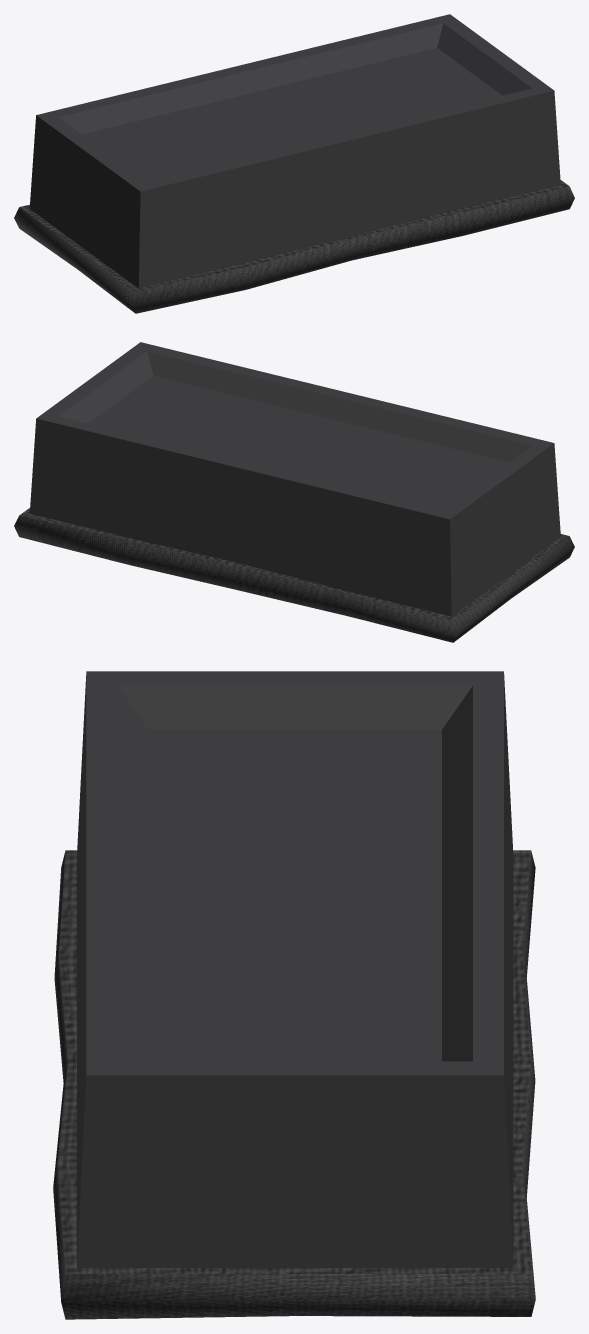
File: Eraser.fbx
The picture shows the model from 3 angles, top to bottom: view 1: azimuth 30°, elevation 25°; view 2: azimuth 150°, elevation 25°; view 3: azimuth 270°, elevation 25°; orthographic projection. The views are drawn at different scales.
Parts seen in each view (by area): view 1: Eraser, Eraser Felt; view 2: Eraser, Eraser Felt; view 3: Eraser, Eraser Felt.
Part boxes in pixels (x1=…): Eraser: x1=29, y1=14, x2=560, y2=288; Eraser Felt: x1=14, y1=180, x2=574, y2=313; Eraser: x1=29, y1=342, x2=560, y2=616; Eraser Felt: x1=14, y1=508, x2=574, y2=642; Eraser: x1=77, y1=671, x2=513, y2=1267; Eraser Felt: x1=53, y1=850, x2=535, y2=1319.
Bounding box in the file's own units: 0.4667 × 0.1203 × 0.2206.
2 materials, 1 textured.
